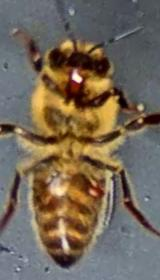varroa_mite: (73, 163, 111, 210)
